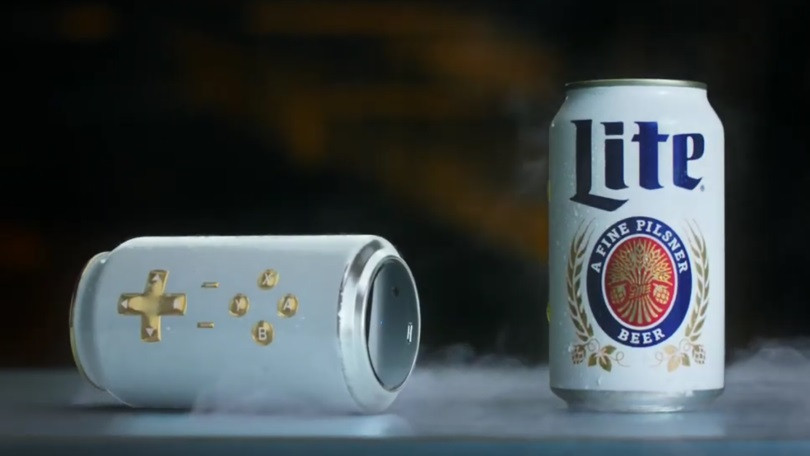beer can: (72, 231, 423, 415), (544, 77, 728, 415)
